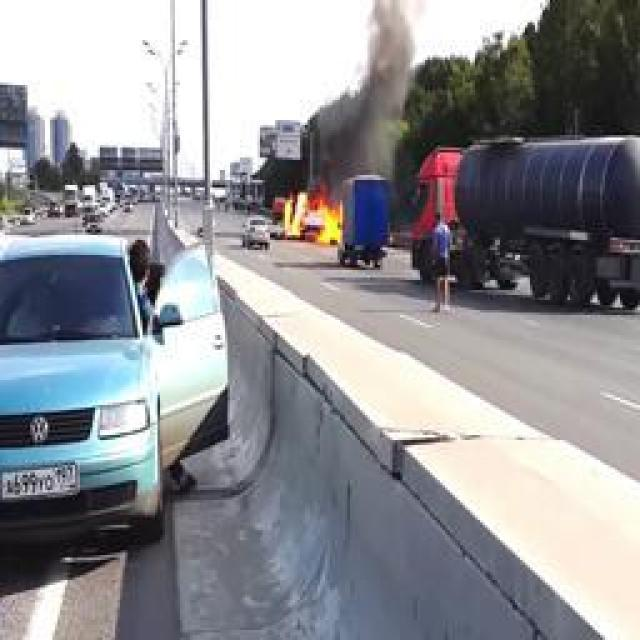Fire: (285, 185, 343, 245)
